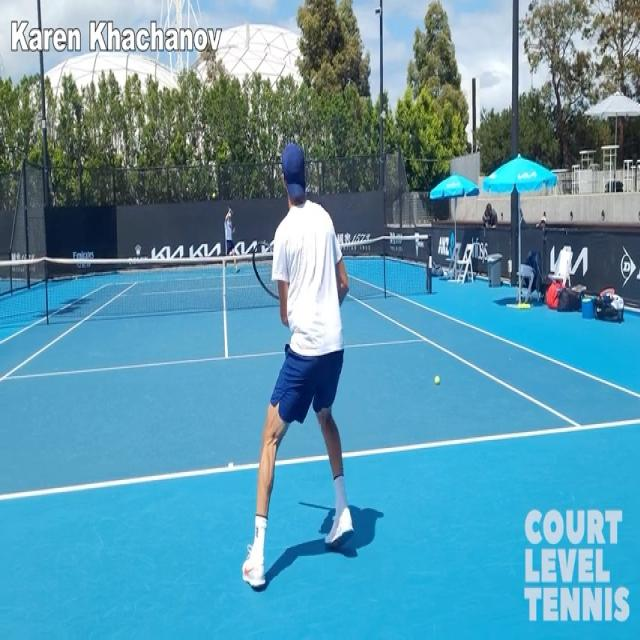ready-position: (241, 142, 369, 589)
